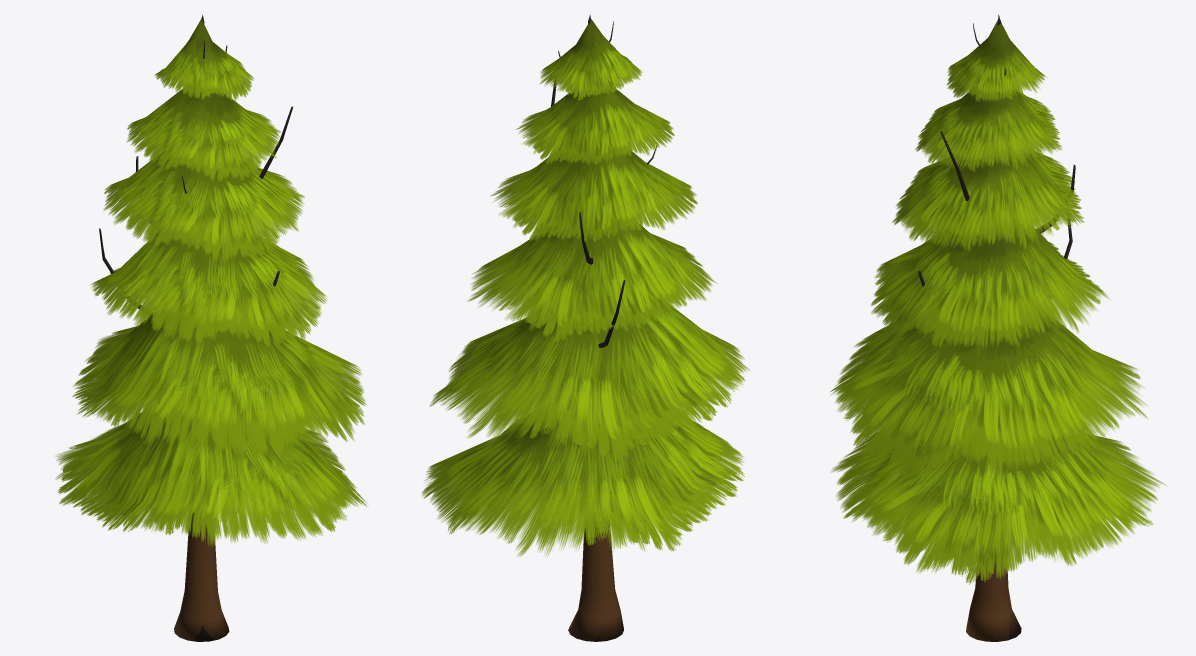
The model's file is pine.glb.
The picture shows the model from 3 angles, left to right: view 1: azimuth 30°, elevation 25°; view 2: azimuth 150°, elevation 25°; view 3: azimuth 270°, elevation 25°; orthographic projection.
Visible parts, largest first — view 1: pine; view 2: pine; view 3: pine.
Part boxes in pixels (<box>): pine: <box>55,14,366,641</box>; pine: <box>421,14,749,641</box>; pine: <box>830,15,1166,641</box>.
Size of the model in its own units: 4.08 by 7.46 by 4.06.
2 materials, 2 textured.
